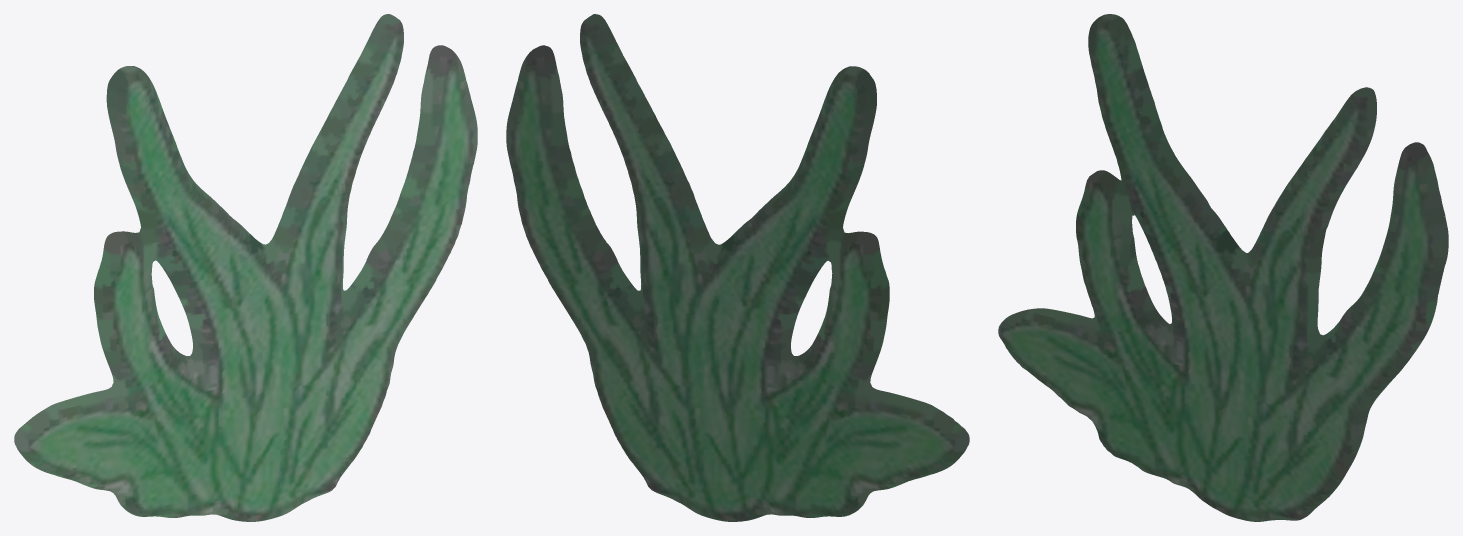
File: seaweed_camera.gltf
3 renders of one model, left to right at view 1: azimuth 30°, elevation 25°; view 2: azimuth 150°, elevation 25°; view 3: azimuth 330°, elevation 25°, orthographic. The views are drawn at different scales.
Bounding box in the file's own units: 0.2112 × 0.2132 × 0.0102.
